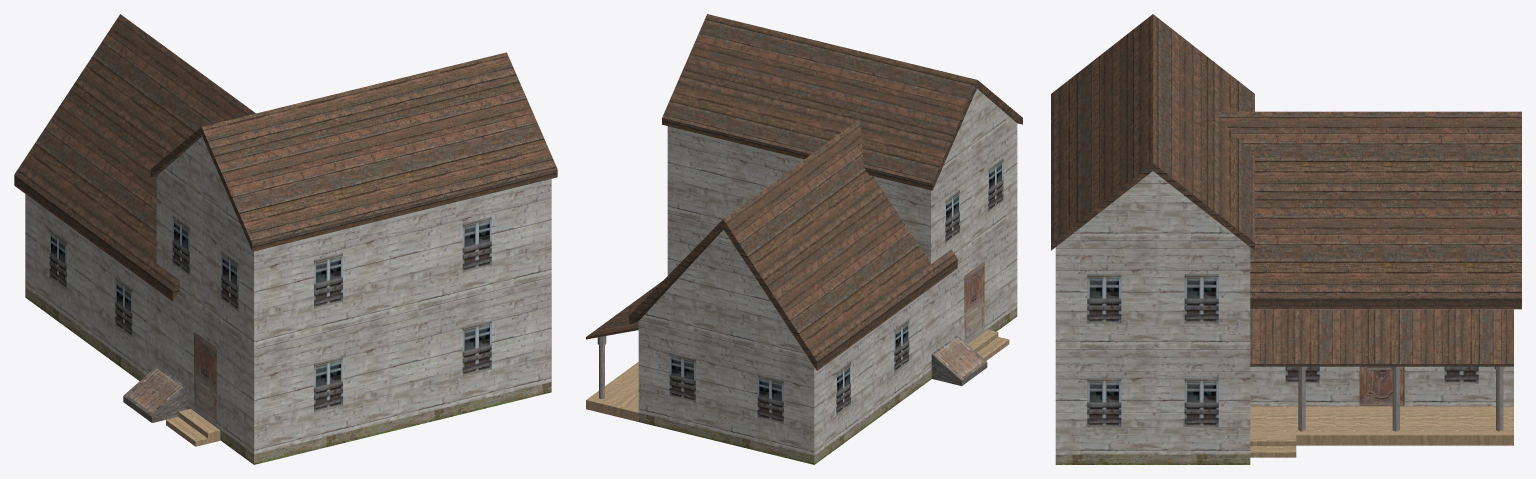
Rendered from psx house.fbx.
3 views of the same model, side by side, from view 1: azimuth 30°, elevation 25°; view 2: azimuth 150°, elevation 25°; view 3: azimuth 270°, elevation 25° (orthographic). The views are drawn at different scales.
Parts seen in each view (by area): view 1: PSX Abandoned House; view 2: PSX Abandoned House; view 3: PSX Abandoned House.
Boxes of the visible parts, box(x1,y1,x2,y2) form: PSX Abandoned House: box(14, 14, 557, 464); PSX Abandoned House: box(586, 14, 1022, 464); PSX Abandoned House: box(1051, 14, 1521, 464).
Bounding box in the file's own units: 677 × 586 × 822.
Materials: 9 (9 with a texture image).
